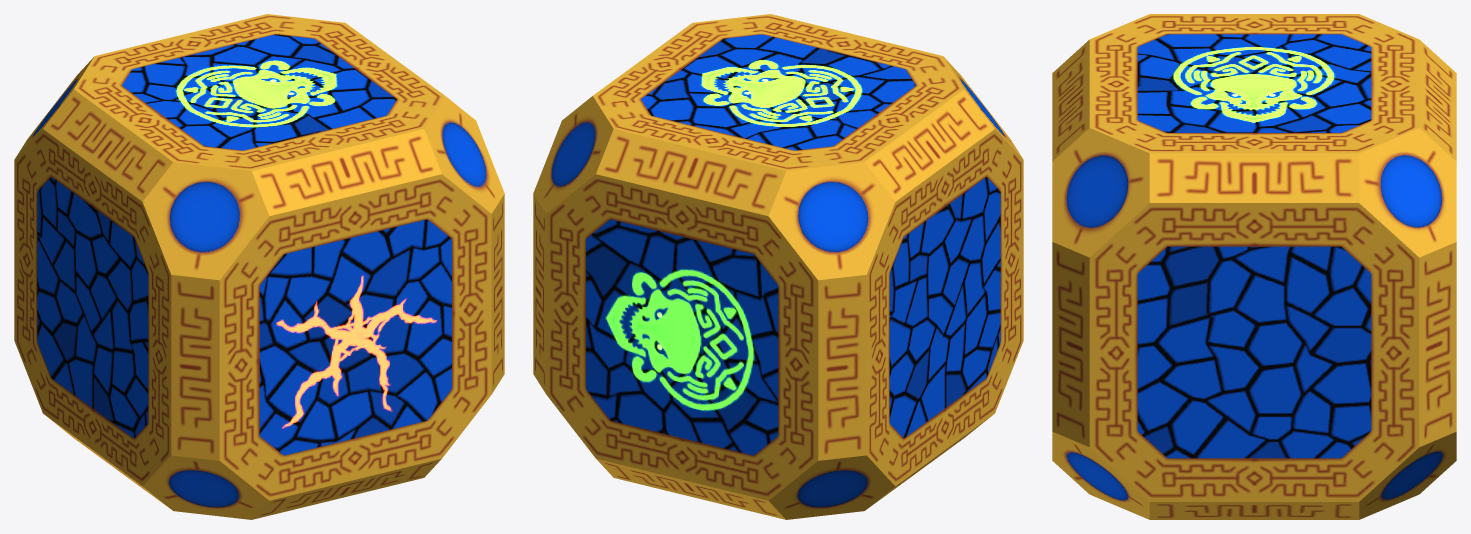
3 renders of one model, left to right at view 1: azimuth 30°, elevation 25°; view 2: azimuth 150°, elevation 25°; view 3: azimuth 270°, elevation 25°, orthographic. The views are drawn at different scales.
Visible parts, largest first — view 1: DF; view 2: DF; view 3: DF.
Boxes of the visible parts, left/top/right/bottom form: DF: left=14, top=14, right=504, bottom=519; DF: left=533, top=14, right=1023, bottom=519; DF: left=1052, top=14, right=1456, bottom=519.
Size of the model in its own units: 104 by 104 by 104.
1 material, 1 textured.
